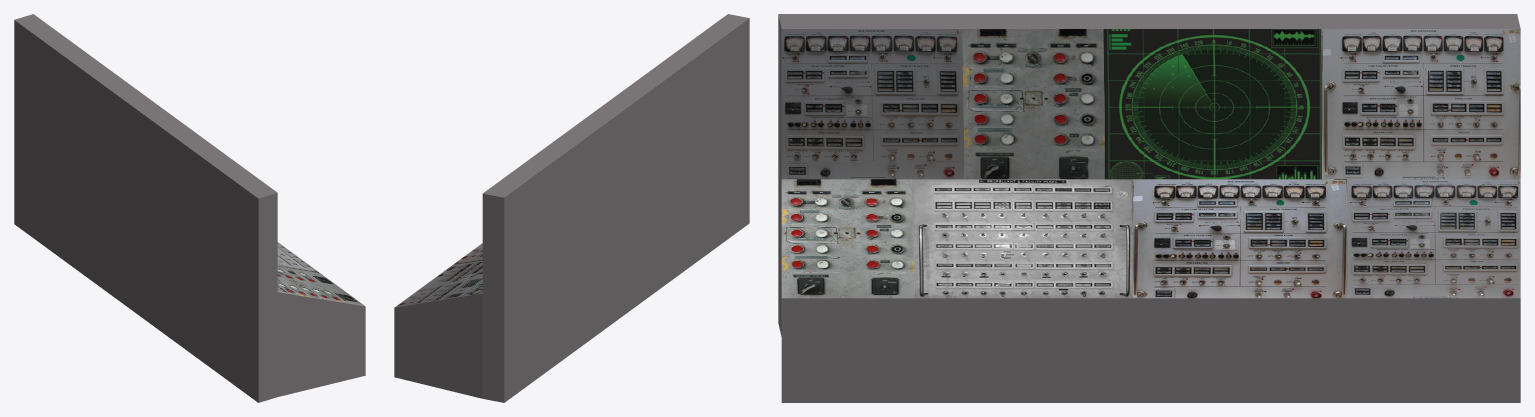
Rendered from pane.fbx.
3 renders of one model, left to right at view 1: azimuth 30°, elevation 25°; view 2: azimuth 150°, elevation 25°; view 3: azimuth 270°, elevation 25°, orthographic. The views are drawn at different scales.
Parts seen in each view (by area): view 1: pCube1; view 2: pCube1; view 3: pCube1.
Part boxes in pixels (x1,y1,x2,y2): pCube1: (14,14,365,402); pCube1: (394,14,749,402); pCube1: (778,14,1520,402).
Bounding box in the file's own units: 67.07 × 121 × 263.
